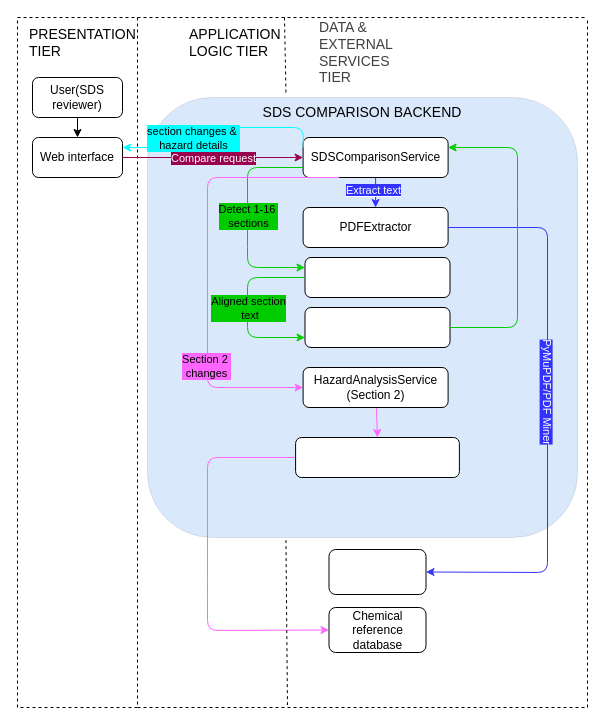
The diagram is 606 pixels wide and 726 high, and some of its shapes have lost their labels. Each missing label, with the centre of its shape:
ChemicalReferenceRepository: the point at 377,457
DiffEngine: the point at 377,327
PDF library: the point at 377,571
SectionDetector: the point at 377,277
